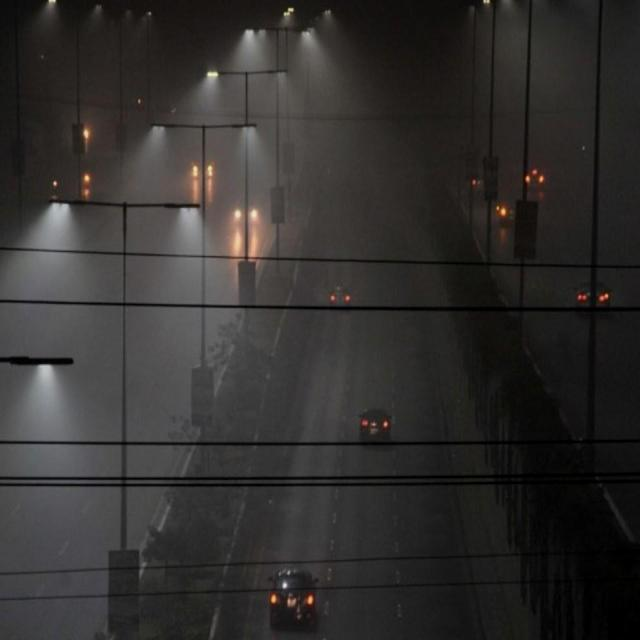Car: (266, 568, 320, 626), (574, 280, 614, 310), (357, 408, 393, 440), (328, 286, 350, 307), (525, 169, 544, 189)
